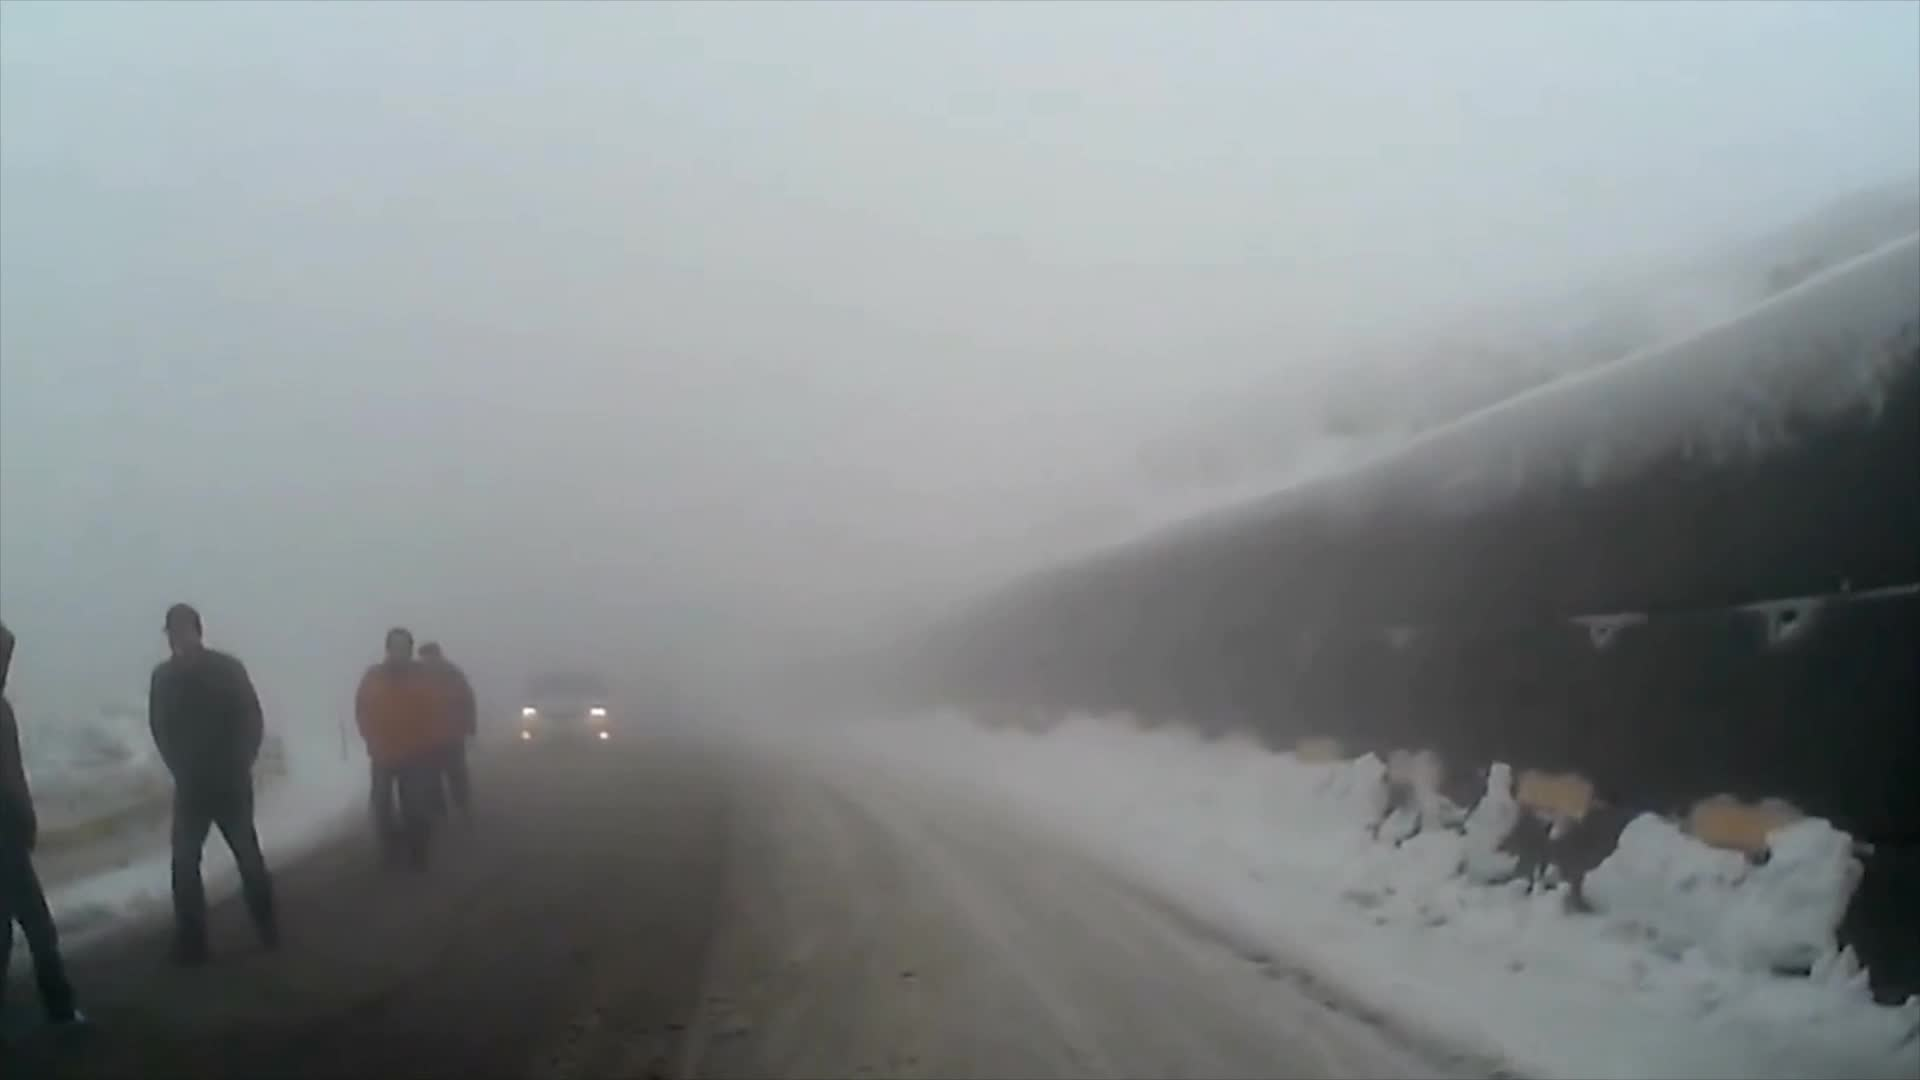pedestrian: (148, 604, 281, 970), (1, 619, 111, 1029), (351, 623, 448, 869)
vehicle: (515, 669, 616, 759), (519, 687, 620, 777)
